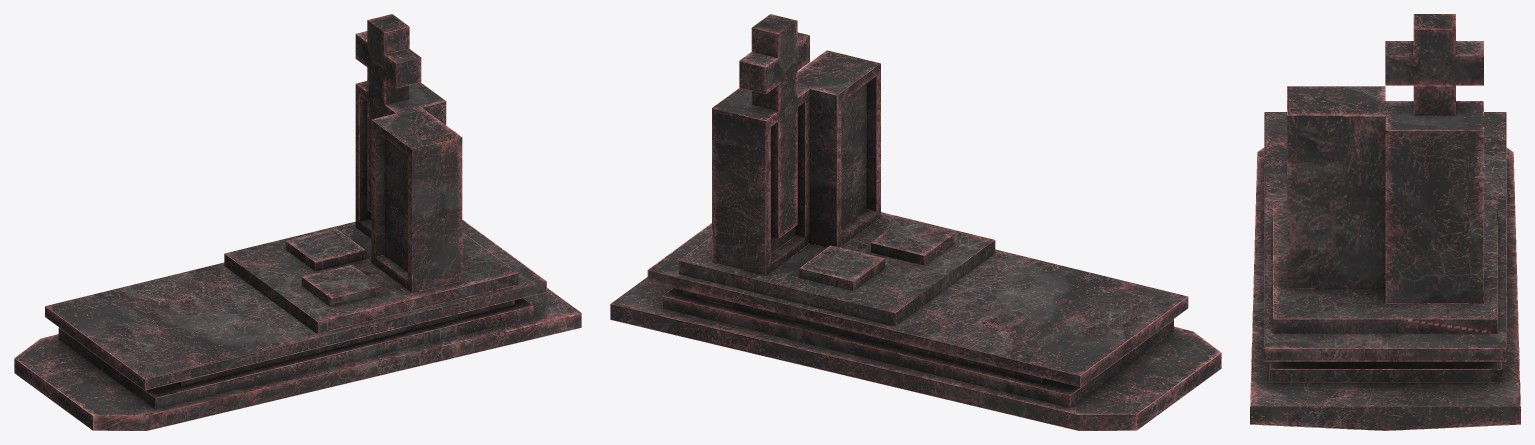
File: grave.fbx
3 renders of one model, left to right at view 1: azimuth 30°, elevation 25°; view 2: azimuth 150°, elevation 25°; view 3: azimuth 270°, elevation 25°, orthographic. The views are drawn at different scales.
Visible parts, largest first — view 1: low_poly.003; view 2: low_poly.003; view 3: low_poly.003.
Part boxes in pixels (x1=…): low_poly.003: x1=14, y1=14, x2=581, y2=430; low_poly.003: x1=610, y1=14, x2=1221, y2=430; low_poly.003: x1=1250, y1=14, x2=1520, y2=430.
Bounding box in the file's own units: 514 × 294 × 211.
1 material, 1 textured.
